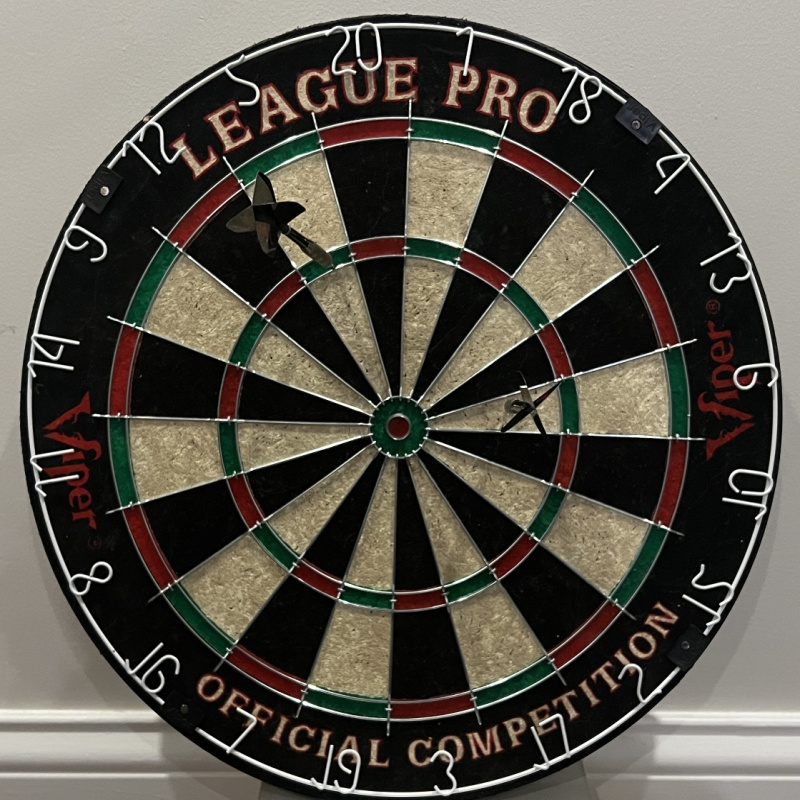dart: (311, 244, 342, 281), (500, 394, 525, 423)
eleven: (29, 444, 80, 498)
six: (730, 362, 780, 389)
three: (426, 751, 460, 794)
twenty: (328, 22, 382, 73)
